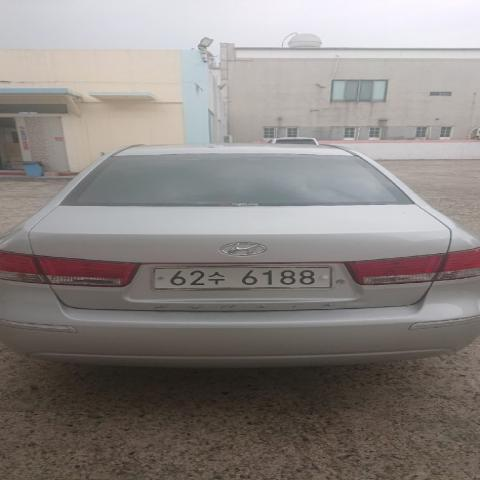LP: (130, 261, 348, 294)
